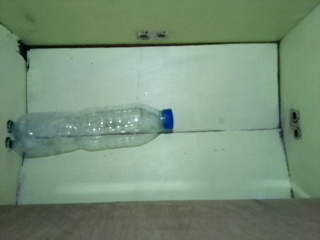bottle: (12, 103, 174, 155)
